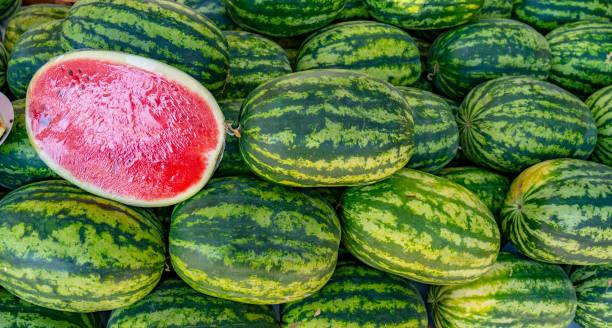watermelon: (24, 48, 232, 210), (158, 171, 350, 303), (237, 67, 419, 201), (0, 177, 170, 317), (343, 162, 502, 285), (68, 0, 228, 88), (456, 75, 603, 169), (503, 155, 612, 269), (299, 21, 423, 94), (445, 260, 577, 328), (428, 23, 553, 86), (286, 274, 428, 328), (109, 285, 276, 328), (226, 0, 343, 35), (553, 28, 612, 81), (364, 0, 479, 27), (515, 5, 612, 29)
